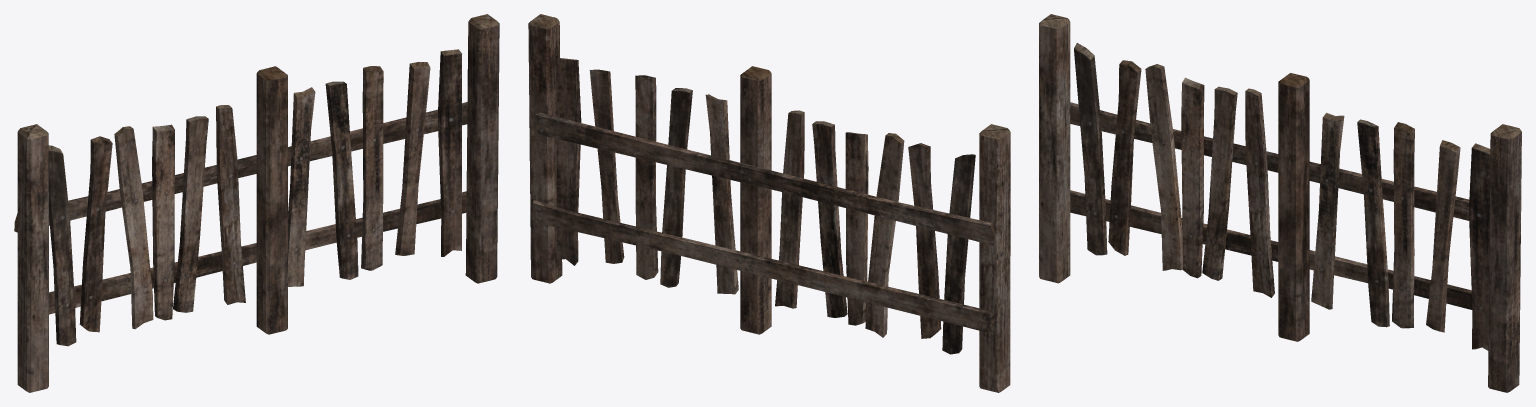
Rendered from SM_Fence_04.fbx.
3 views of the same model, side by side, from view 1: azimuth 30°, elevation 25°; view 2: azimuth 150°, elevation 25°; view 3: azimuth 330°, elevation 25° (orthographic).
Visible parts, largest first — view 1: SM_Fence_04; view 2: SM_Fence_04; view 3: SM_Fence_04.
Boxes of the visible parts, x1,y1,x2,y2 form: SM_Fence_04: [14, 14, 499, 392]; SM_Fence_04: [528, 14, 1010, 392]; SM_Fence_04: [1039, 14, 1521, 392].
Size of the model in its own units: 237 by 124 by 14.17.
